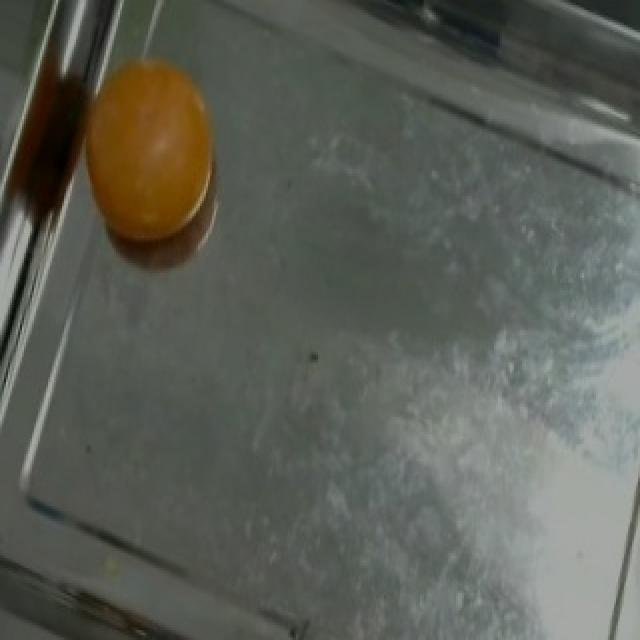Fruit: (66, 32, 236, 268)
